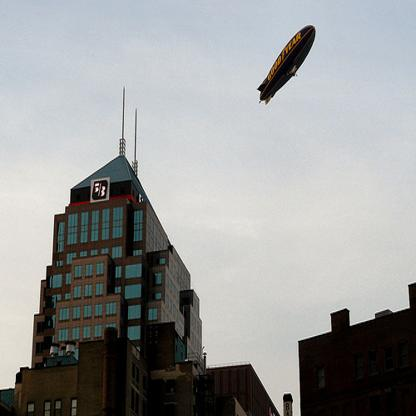Airship: (258, 20, 315, 121)
